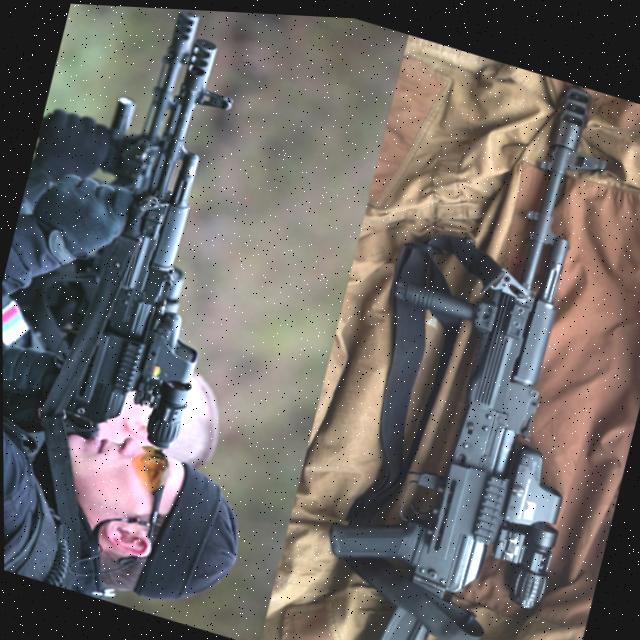firearm: (302, 42, 640, 640), (54, 17, 276, 465)
